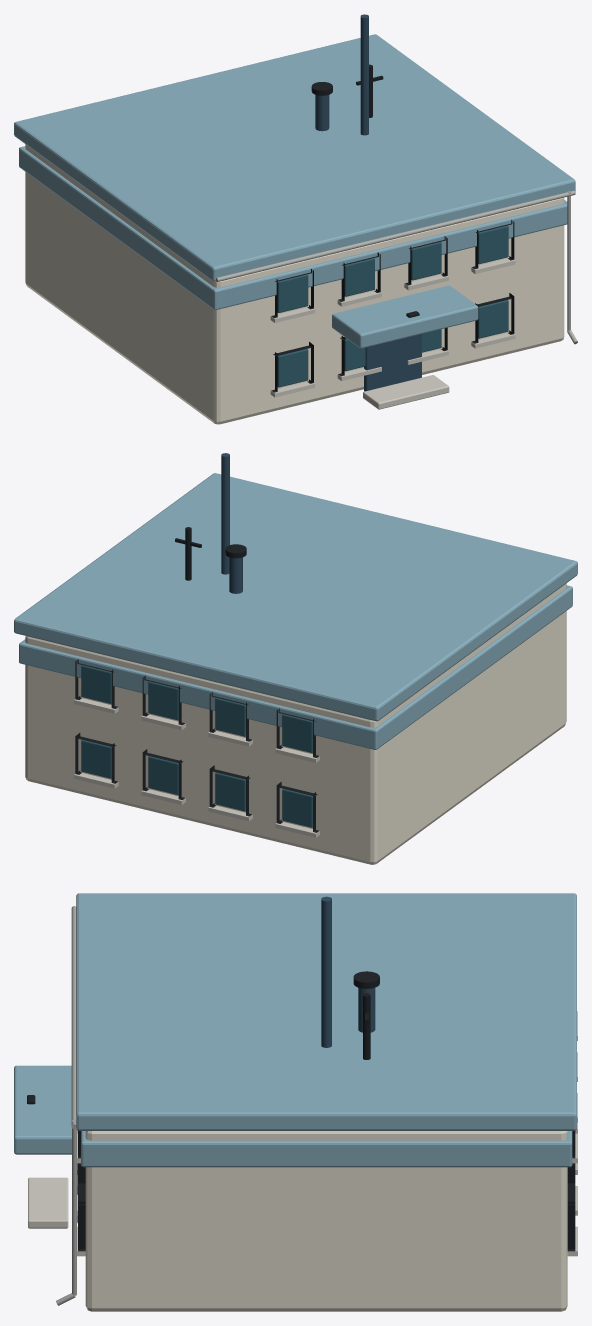
The model's file is CIV_POLICE_2x2_001.glb.
3 renders of one model, top to bottom at view 1: azimuth 30°, elevation 25°; view 2: azimuth 150°, elevation 25°; view 3: azimuth 270°, elevation 25°, orthographic. The views are drawn at different scales.
Visible parts, largest first — view 1: CIV_POLICE_2x2_001_Visual; view 2: CIV_POLICE_2x2_001_Visual; view 3: CIV_POLICE_2x2_001_Visual.
Boxes of the visible parts, x1,y1,x2,y2 form: CIV_POLICE_2x2_001_Visual: (14,14,577,424); CIV_POLICE_2x2_001_Visual: (14,453,577,864); CIV_POLICE_2x2_001_Visual: (14,893,577,1311).
Size of what is drawn, in the model's own units: 3.37 by 2.49 by 3.63.
